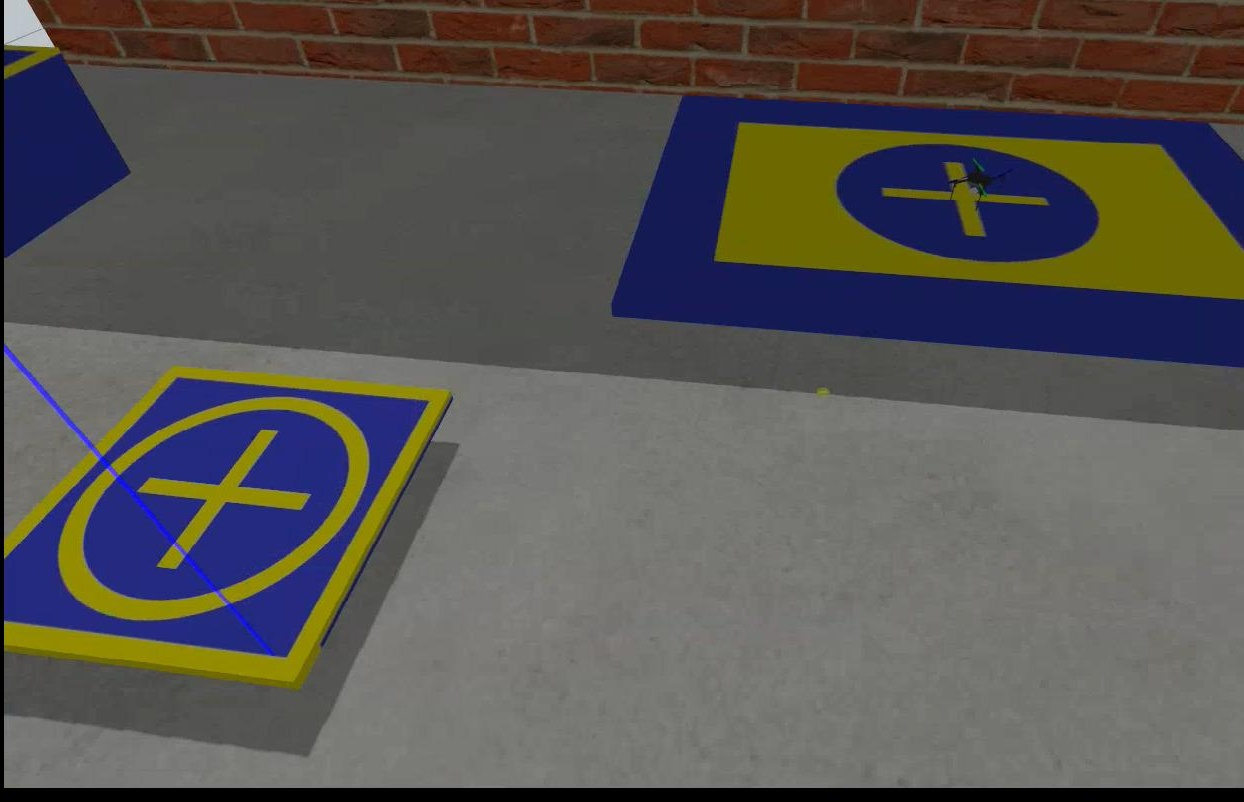large_base: (612, 99, 1242, 369)
small_base: (0, 369, 450, 689)
